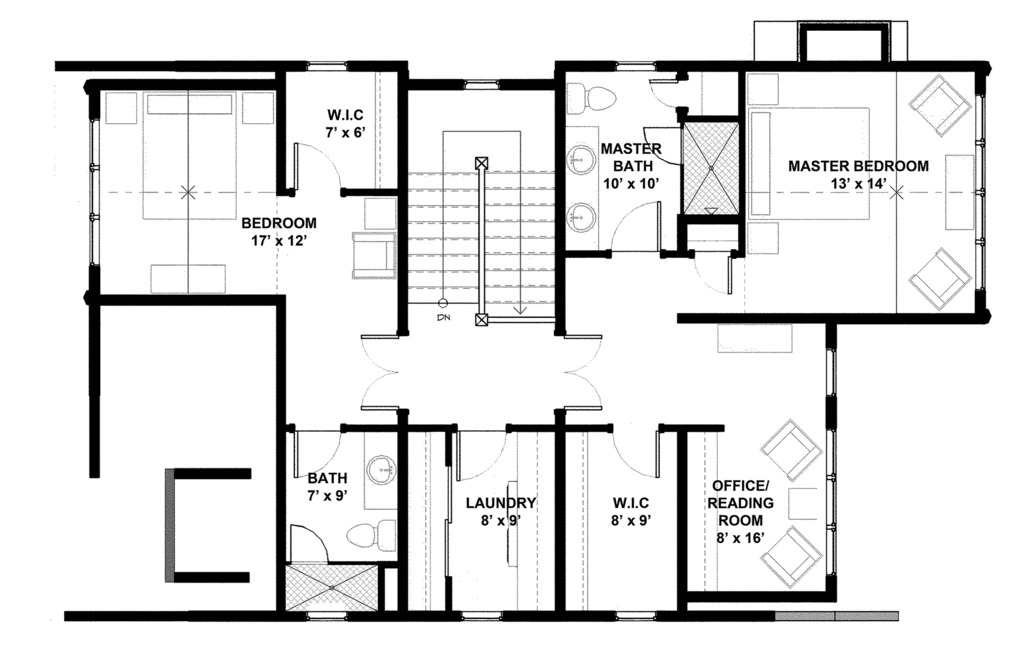bed: (745, 99, 884, 224), (143, 93, 240, 222)
door: (555, 325, 606, 414), (355, 322, 399, 418), (453, 426, 512, 495), (606, 196, 666, 254), (288, 133, 341, 198), (609, 421, 668, 479), (287, 425, 341, 475), (693, 239, 735, 296), (290, 519, 336, 561), (640, 122, 680, 165), (646, 72, 683, 110)
large_sink: (557, 72, 618, 115), (340, 519, 396, 557)
small_sink: (565, 128, 603, 256), (355, 439, 403, 512)
small_sofa: (903, 238, 972, 312), (754, 528, 827, 588), (909, 75, 972, 140), (763, 419, 823, 484), (348, 228, 396, 280)
stairs: (405, 100, 556, 325)
window: (87, 115, 103, 266), (607, 605, 663, 626), (300, 58, 352, 80), (457, 606, 508, 626), (303, 610, 353, 627), (618, 59, 656, 75), (462, 80, 498, 92)
